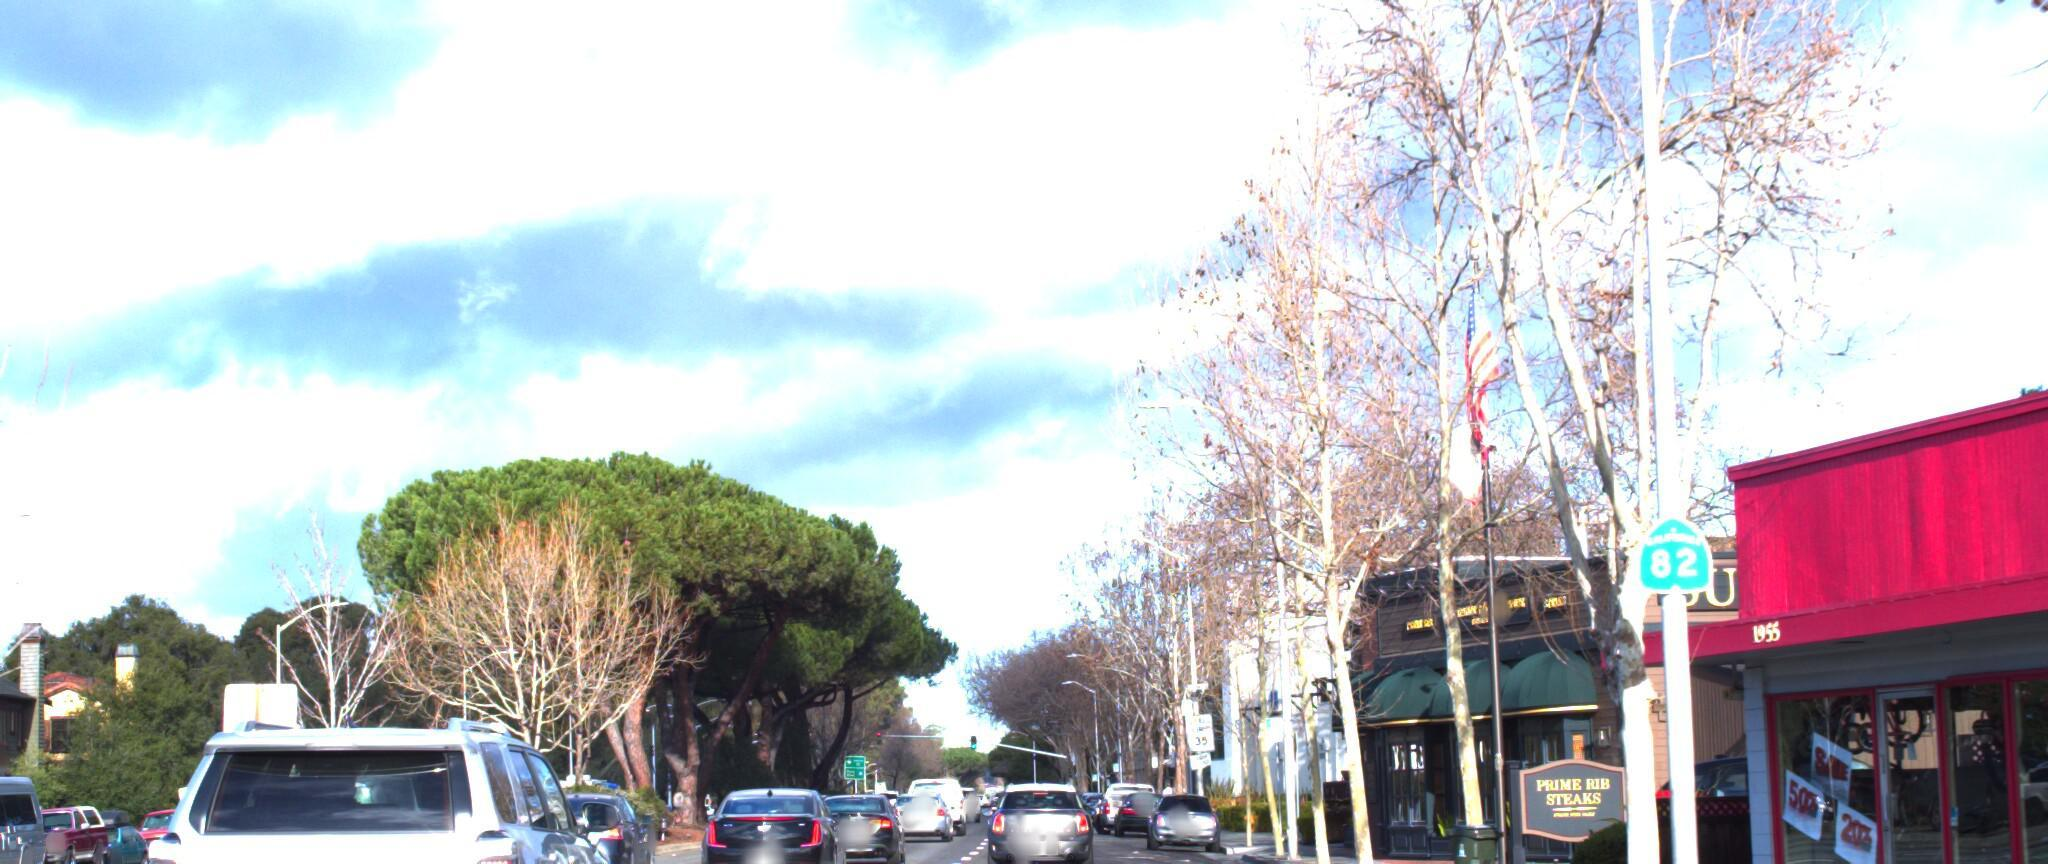car: (114, 702, 652, 864), (507, 779, 664, 864), (695, 782, 856, 864), (976, 771, 1089, 864), (0, 790, 116, 864), (799, 797, 904, 864), (0, 752, 57, 864), (1139, 771, 1219, 839)
